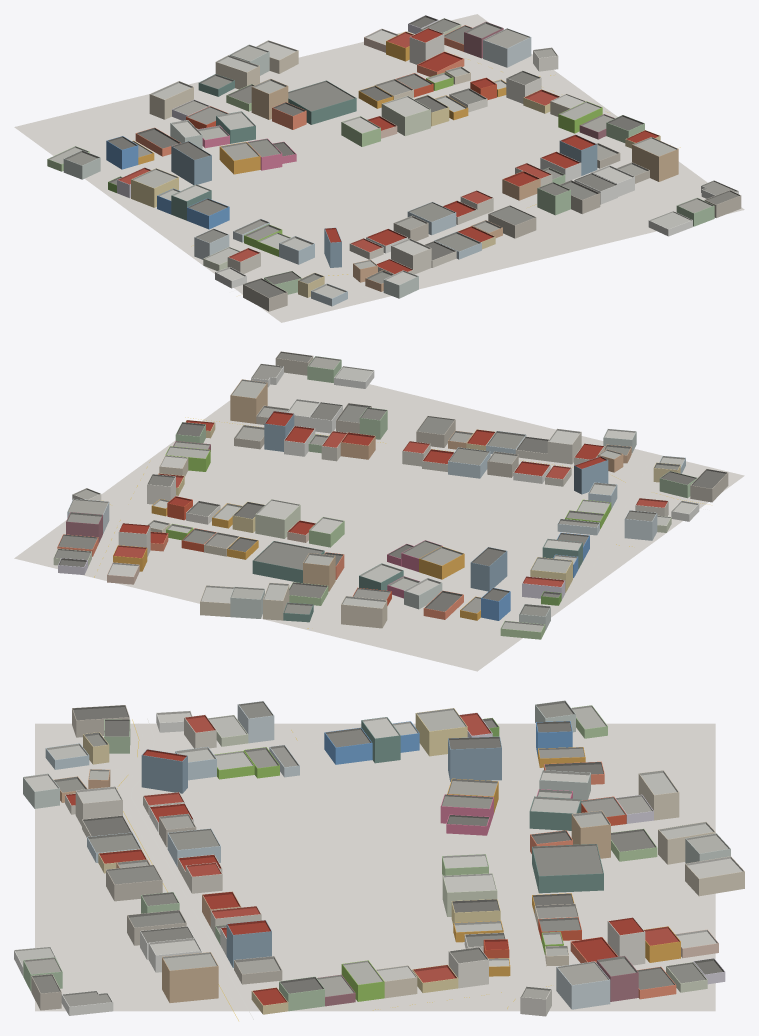
The picture shows the model from 3 angles, top to bottom: view 1: azimuth 30°, elevation 25°; view 2: azimuth 150°, elevation 25°; view 3: azimuth 270°, elevation 25°; orthographic projection. The views are drawn at different scales.
Visible parts, largest first — view 1: ground, walls, roofs; view 2: ground, walls, roofs; view 3: ground, roofs, walls.
Boxes of the visible parts, box(x1,y1,x2,y2) form: ground: box(14, 14, 744, 322); walls: box(47, 20, 741, 311); roofs: box(48, 15, 740, 298); ground: box(14, 372, 744, 671); walls: box(53, 356, 728, 639); roofs: box(53, 351, 727, 632); ground: box(35, 723, 715, 1011); roofs: box(14, 700, 744, 1006); walls: box(14, 704, 744, 1016).
Size of what is drawn, in the model's own units: 267 by 13.37 by 268.
